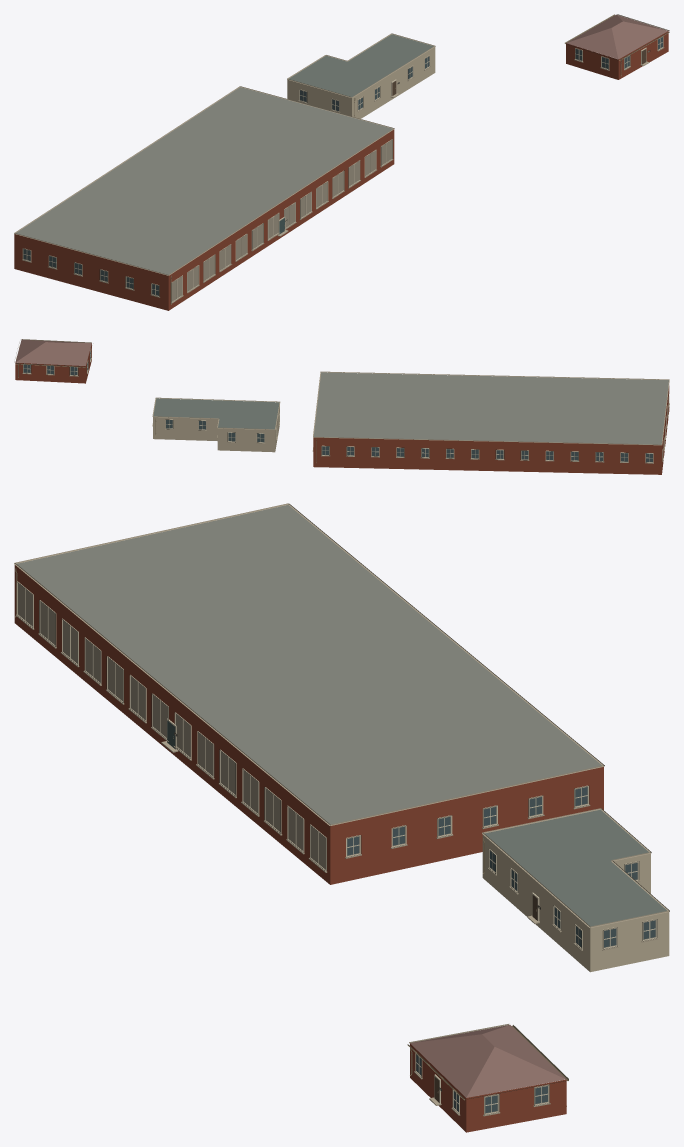
The picture shows the model from 3 angles, top to bottom: view 1: azimuth 30°, elevation 25°; view 2: azimuth 150°, elevation 25°; view 3: azimuth 270°, elevation 25°; orthographic projection. The views are drawn at different scales.
Visible parts, largest first — view 1: -7_-1_270512522_7, -7_-1_270512523_8; view 2: -7_-1_270512522_7, -7_-1_270512523_8; view 3: -7_-1_270512522_7, -7_-1_270512523_8.
Boxes of the visible parts, <box> form: -7_-1_270512522_7: <box>14,14,669,310</box>; -7_-1_270512523_8: <box>287,47,646,118</box>; -7_-1_270512522_7: <box>14,339,669,474</box>; -7_-1_270512523_8: <box>153,405,279,452</box>; -7_-1_270512522_7: <box>14,503,669,1132</box>; -7_-1_270512523_8: <box>434,834,669,1102</box>.
Size of the model in its own units: 120 by 6.33 by 57.24.
